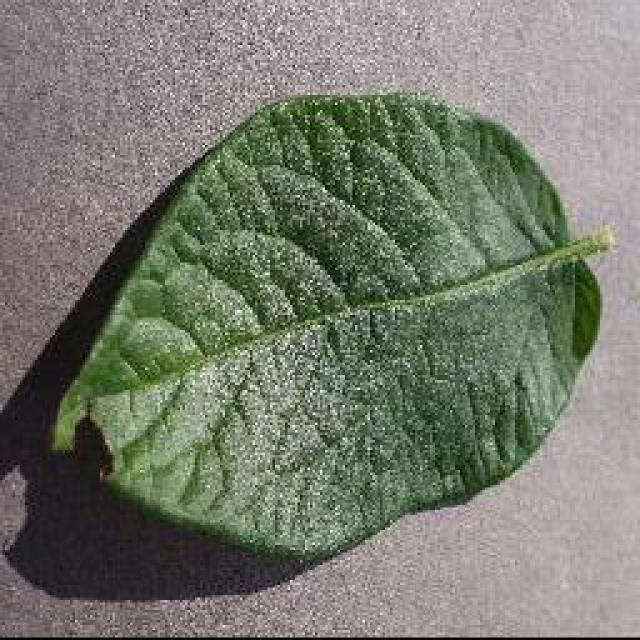Potato___healthy: (44, 88, 620, 571)
